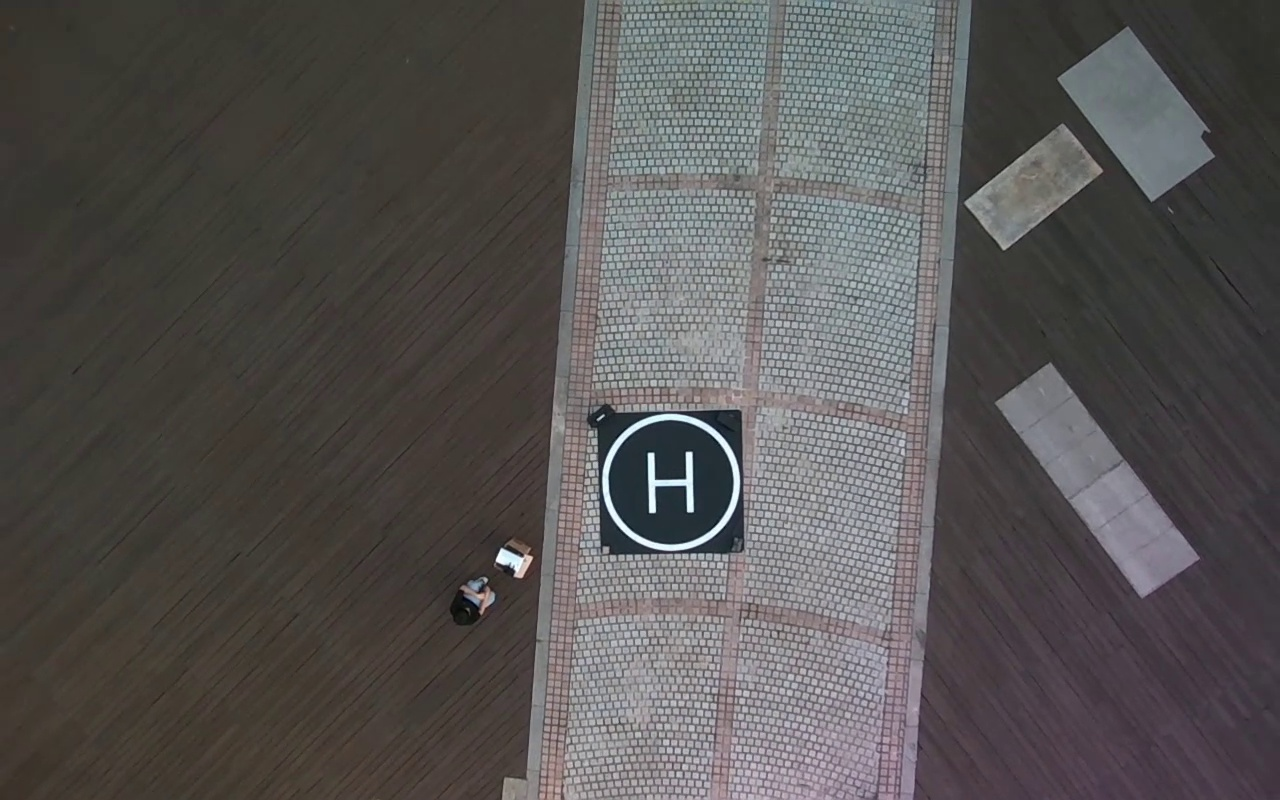H: (646, 452, 696, 513)
heliport: (601, 413, 742, 549)
